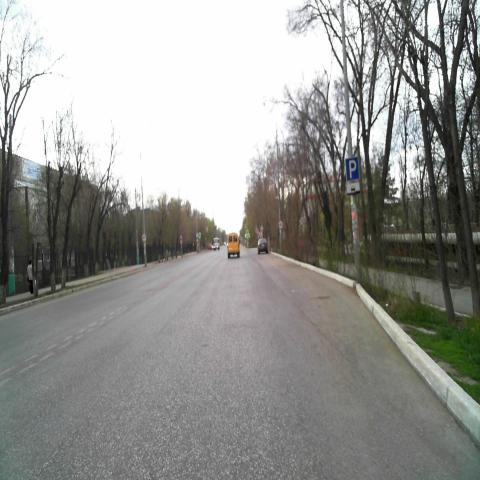6_4: (346, 156, 358, 180)
8_6_2: (346, 181, 360, 194)
